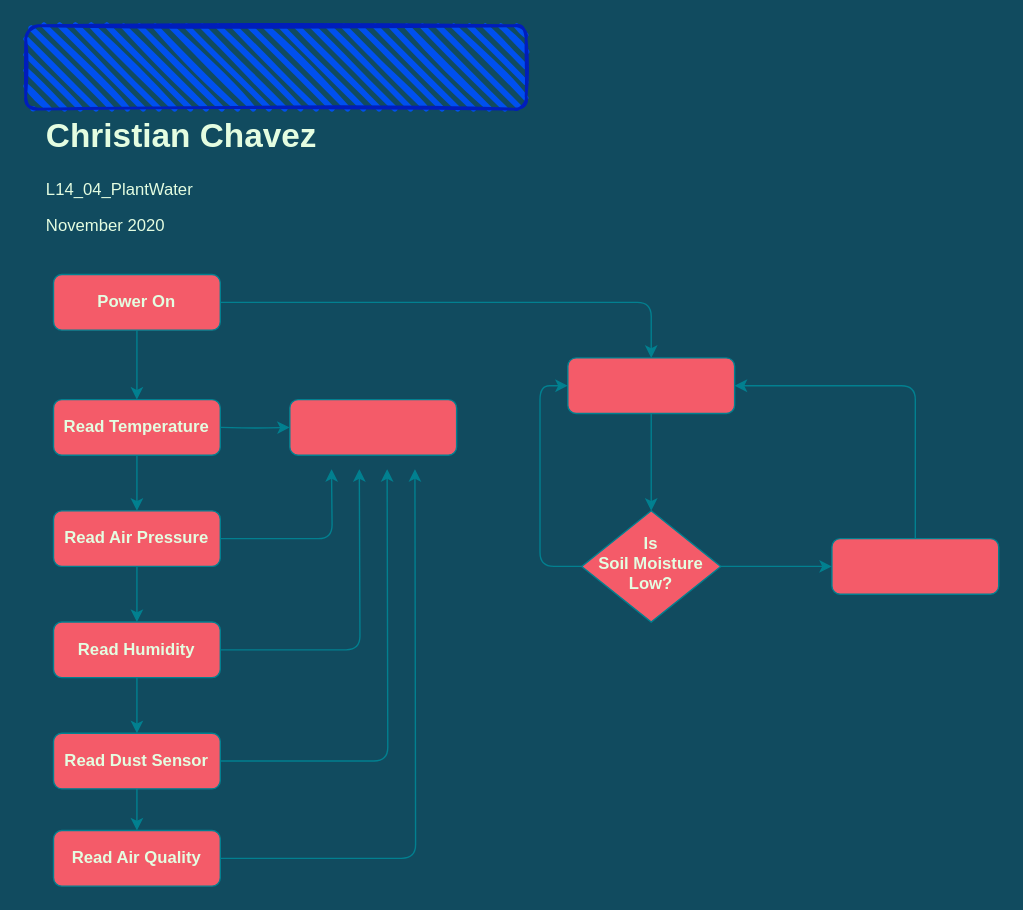
This 1023x910 diagram has some shape labels left out. The centre of each missing label's shape, as x and y in pixels:
"Print to OLED" belongs at point 372,426.
"Read Moisture Sensor" belongs at point 650,385.
"Smart Plant Watering System" belongs at point 275,67.
"Turn on Water Pump" belongs at point 915,565.
